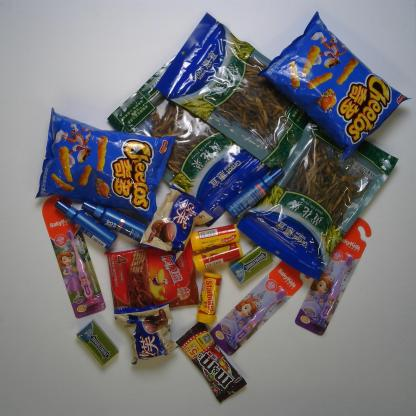Candy: (190, 222, 240, 254), (192, 242, 244, 272), (196, 271, 223, 325)
Chocolate: (175, 321, 248, 404)
Dessert: (104, 236, 200, 320), (139, 181, 218, 263), (114, 302, 180, 365)
Dried Food: (107, 48, 272, 228), (237, 118, 400, 280), (154, 9, 321, 167)
Gum: (75, 319, 120, 366), (228, 245, 274, 284)
Personal Hygiene: (210, 259, 312, 357), (292, 215, 373, 336), (40, 193, 107, 320), (54, 198, 119, 253), (224, 167, 285, 220), (81, 201, 148, 244)
Puffed Food: (256, 10, 413, 164), (35, 108, 176, 214)
